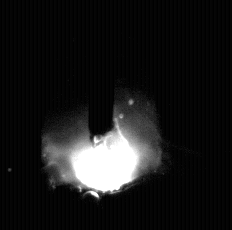arame: (89, 0, 115, 141)
poca: (42, 0, 162, 230)
